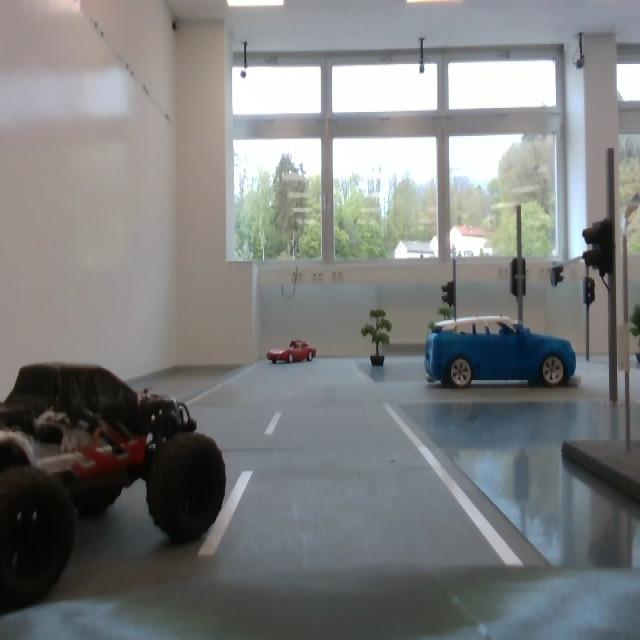car: (2, 360, 227, 620), (423, 311, 580, 393), (264, 336, 321, 370)
potted plant: (361, 304, 396, 355), (634, 295, 640, 370)
traffic light: (582, 217, 619, 278), (509, 250, 528, 309), (442, 280, 458, 316), (583, 279, 600, 308), (552, 262, 563, 292)
